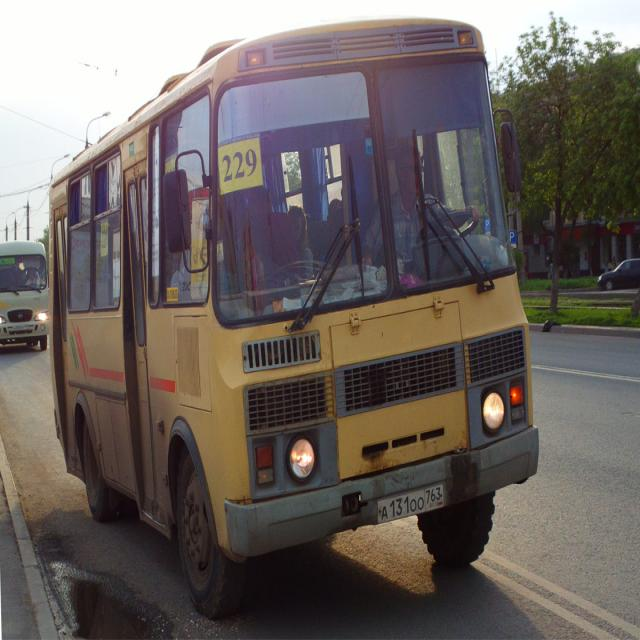number-of-bus: (217, 140, 266, 189)
